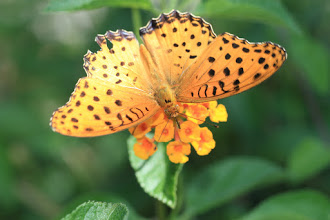Argyreus hyperbius: (44, 5, 289, 150)
butterfly: (46, 7, 291, 152)
